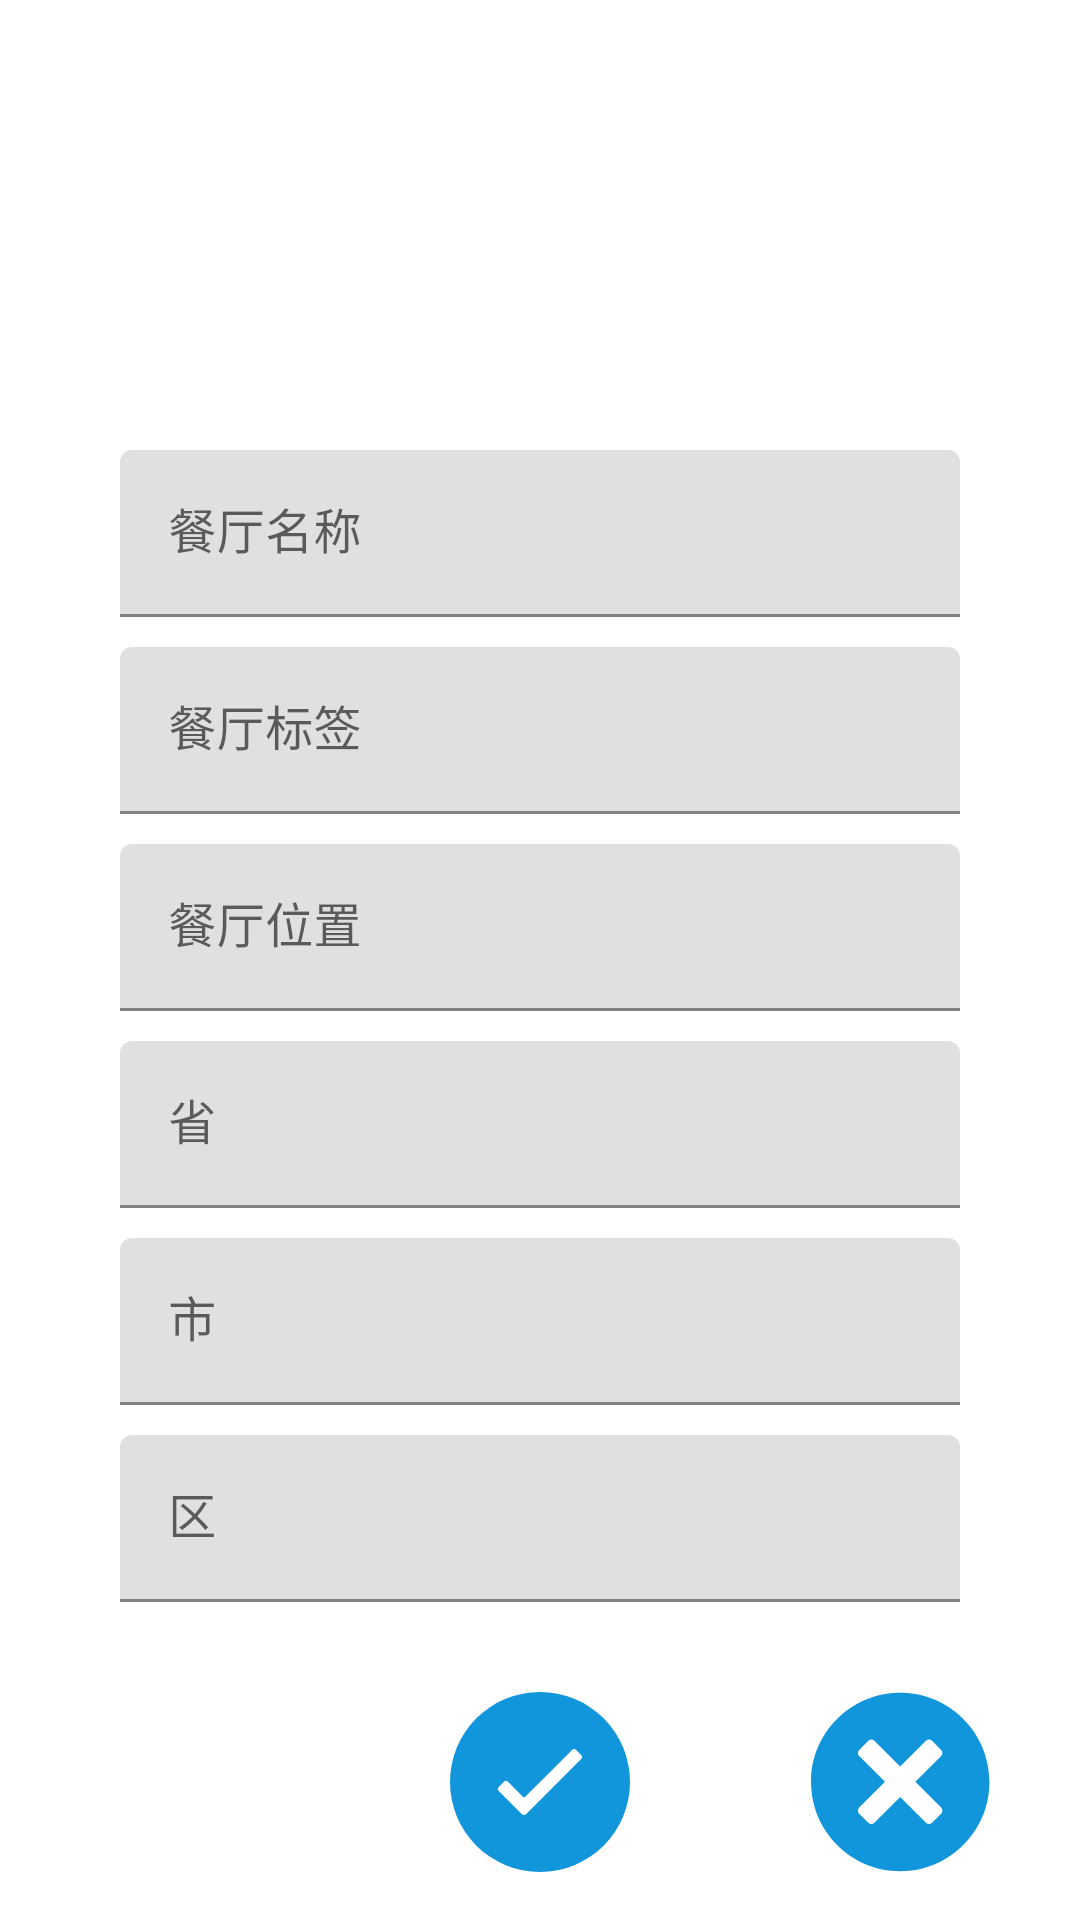

Icons on this 1080 × 1920 Android screen, each with the point to tap as [x,y]:
cancel: [900,1782]
confirm: [540,1782]
